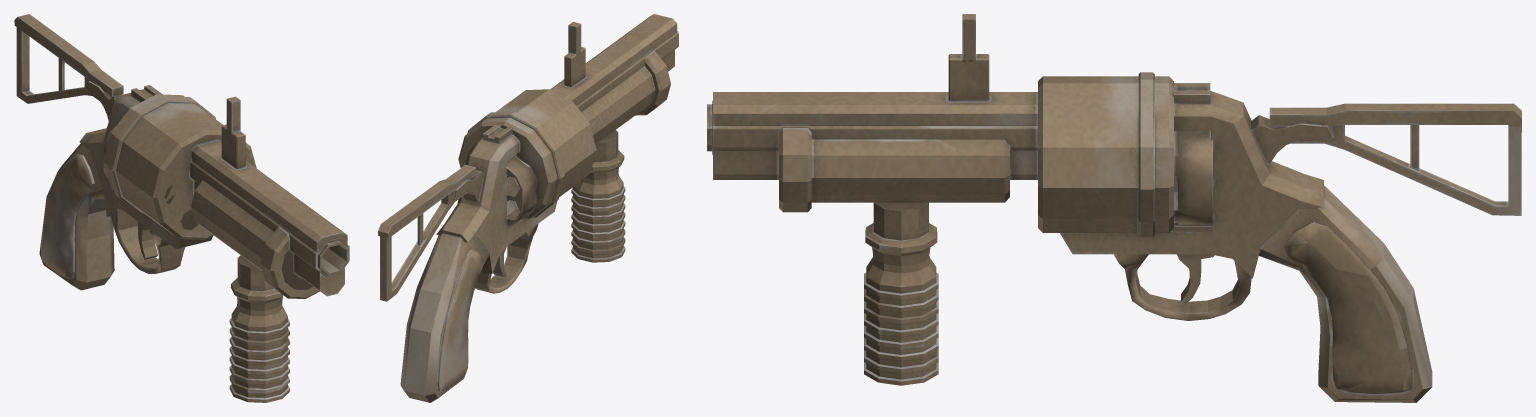
File: grenade_launcher.glb
3 renders of one model, left to right at view 1: azimuth 30°, elevation 25°; view 2: azimuth 150°, elevation 25°; view 3: azimuth 270°, elevation 25°, orthographic. The views are drawn at different scales.
Parts seen in each view (by area): view 1: grenade_launcher; view 2: grenade_launcher; view 3: grenade_launcher.
Boxes of the visible parts, x1,y1,x2,y2 form: grenade_launcher: (14,14,349,402); grenade_launcher: (378,14,678,402); grenade_launcher: (707,14,1521,402).
Size of the model in its own units: 0.1217 by 0.3077 by 0.6.
1 material, 1 textured.
